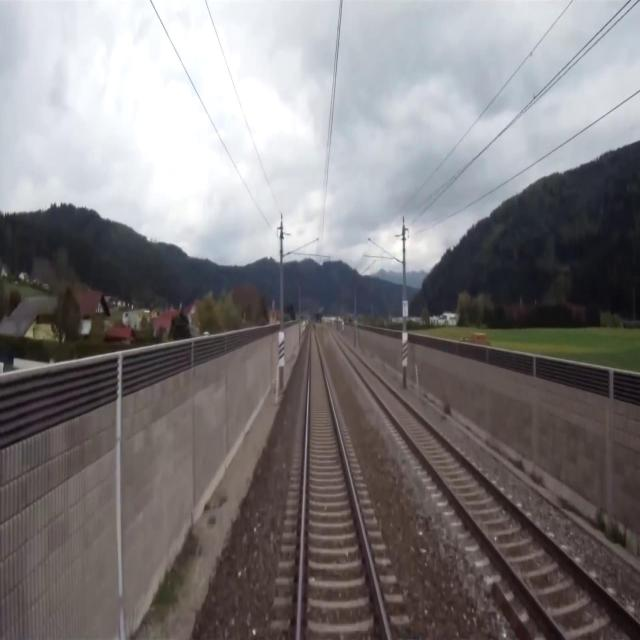rail-track: (336, 335, 640, 639), (301, 329, 387, 639)
